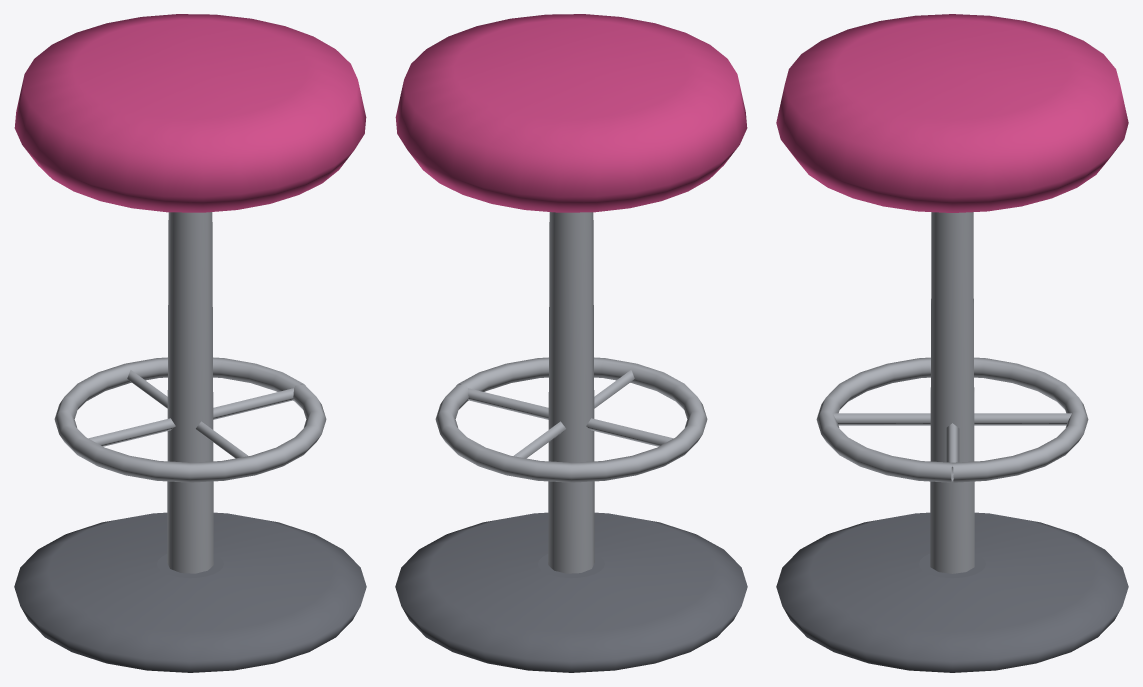
Rendered from furn_arcade_stool.glb.
The picture shows the model from 3 angles, left to right: view 1: azimuth 30°, elevation 25°; view 2: azimuth 150°, elevation 25°; view 3: azimuth 270°, elevation 25°; orthographic projection.
Parts seen in each view (by area): view 1: furn_arcade_stool_main; view 2: furn_arcade_stool_main; view 3: furn_arcade_stool_main.
Part boxes in pixels (left/top/right/bottom): furn_arcade_stool_main: left=14, top=14, right=366, bottom=672; furn_arcade_stool_main: left=395, top=14, right=747, bottom=672; furn_arcade_stool_main: left=776, top=14, right=1128, bottom=672.
Size of the model in its own units: 0.42 by 0.705 by 0.42.
